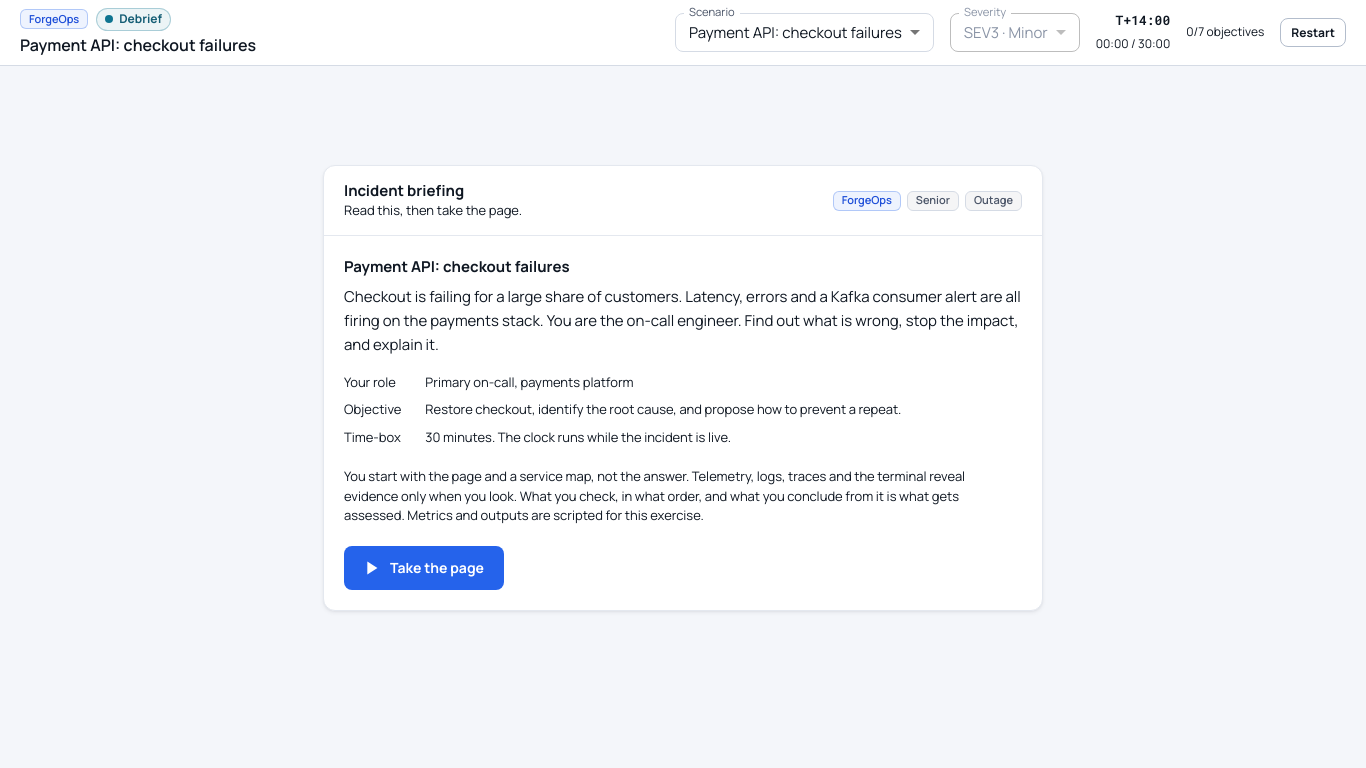
IncidentSimulatorPage › shows the operations console once the page is taken
This screenshot has width=1366, height=768.
Step 1. Click the button "Take the page" → {"x": 424, "y": 568}, box [344, 546, 504, 590]
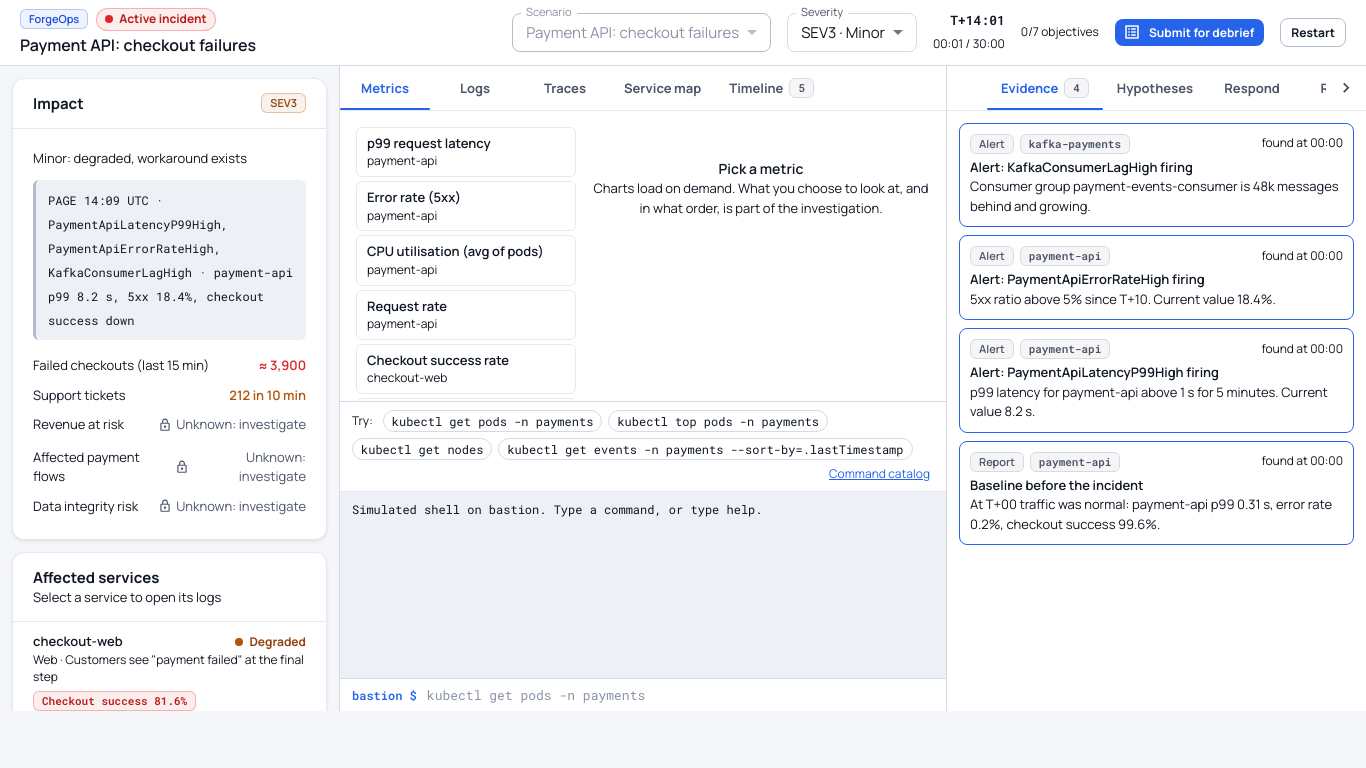
Now the element named "incident overview" is shown, box [0, 66, 340, 711]
Now the element named "terminal" is shown, box [340, 401, 946, 711]
Now the element named "investigation workspace" is shown, box [946, 66, 1365, 711]
